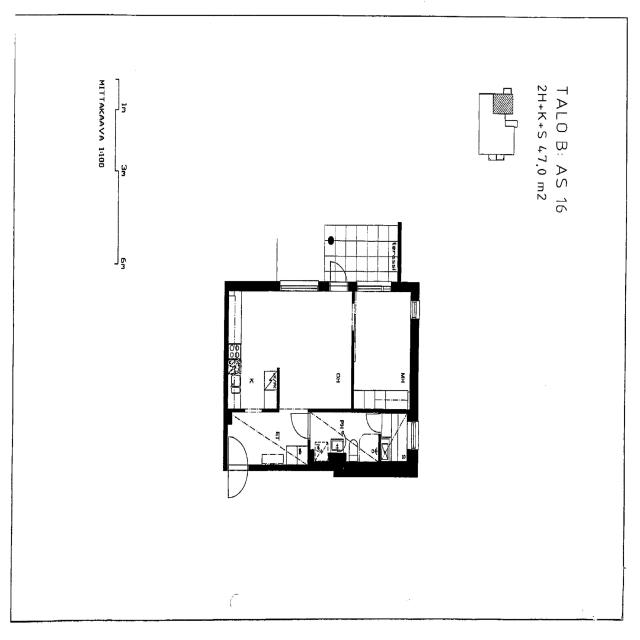door: (226, 433, 250, 501), (288, 408, 313, 440), (326, 261, 351, 292), (365, 411, 382, 434)
window: (275, 276, 322, 296), (354, 274, 396, 296), (408, 418, 421, 454), (407, 295, 421, 323)
zone: (226, 287, 355, 387), (352, 288, 412, 410), (310, 408, 379, 464), (382, 411, 409, 459)
